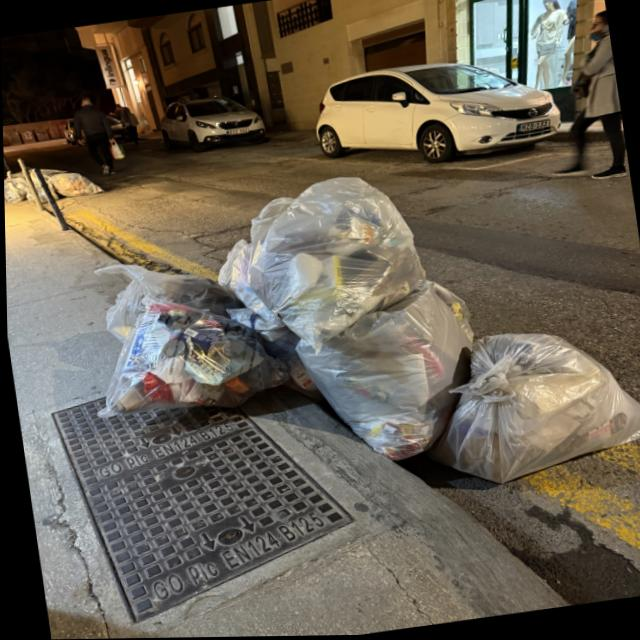Recyclable Material -Grey Bags-: (94, 177, 640, 485), (41, 172, 103, 200), (3, 171, 34, 203)
